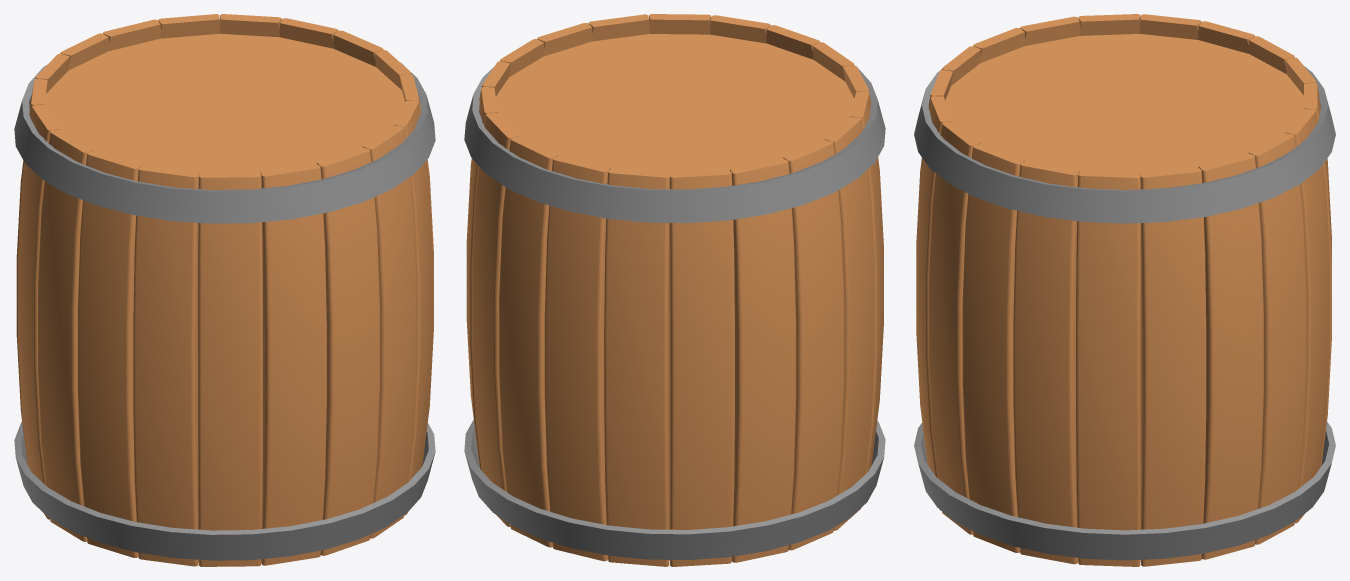
Rendered from Barrel.fbx.
3 views of the same model, side by side, from view 1: azimuth 30°, elevation 25°; view 2: azimuth 150°, elevation 25°; view 3: azimuth 270°, elevation 25° (orthographic).
Visible parts, largest first — view 1: Barrel; view 2: Barrel; view 3: Barrel.
Part boxes in pixels (x1,y1,x2,y2): Barrel: (14,14,435,566); Barrel: (464,14,885,566); Barrel: (914,14,1335,566).
Bounding box in the file's own units: 2.07 × 2.1 × 2.07.
